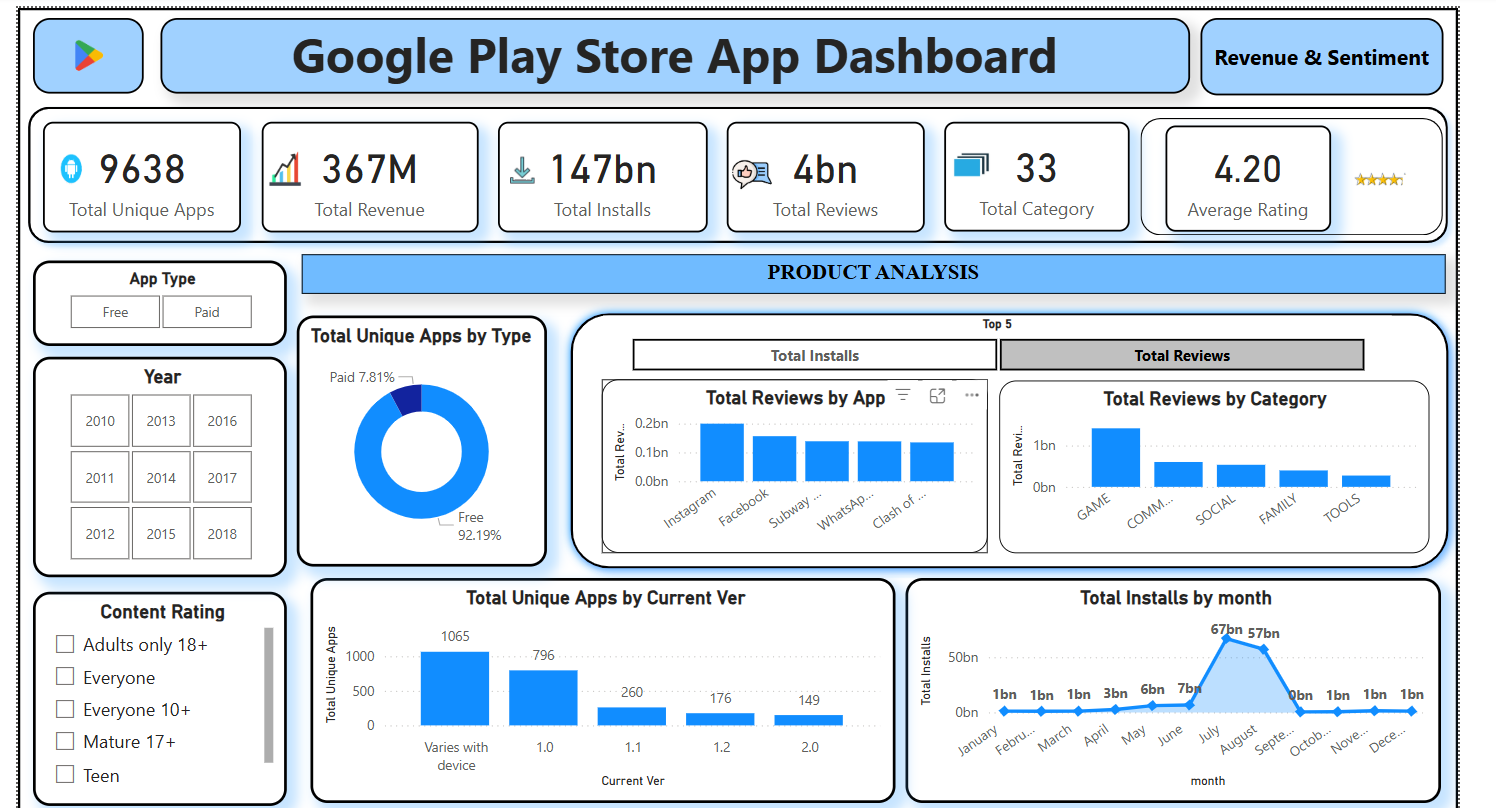

The page's visual inventory and layout, read from the dashboard file:
{"tool":"powerbi","page":{"name":"Summary","canvas":[1280,720],"ordinal":0},"visuals":[{"type":"shape","box":[0,0,1280,720],"z":0},{"type":"group","id":"g1","title":"Star Rating","box":[1182.3,120.5,60.7,60.8],"z":0,"group":"g2"},{"type":"image","title":"color_star","box":[1184.2,139.3,58.7,26.5],"z":0,"group":"g1"},{"type":"textbox","box":[126.3,9.4,914.9,67.2],"z":1000},{"type":"card","fields":{"Values":["All_Measures.Average Rating"]},"box":[1019.6,104.4,147.3,94.4],"z":1000,"group":"g2"},{"type":"image","title":"out_star","box":[1183.8,135,59.1,34.5],"z":1000,"group":"g1"},{"type":"image","box":[13.4,9.4,98.1,67.2],"z":2000},{"type":"shape","box":[997.6,98.2,268.7,104.3],"z":2000,"group":"g2"},{"type":"barChart","fields":{"Y":["All_Measures.Diff_Rating"]},"box":[1182.3,120.5,62.1,61.1],"z":2000,"group":"g1"},{"type":"slicer","title":"Content Rating","fields":{"Values":["Playstore_Cleaned.Content Rating"]},"box":[12.9,518.6,225.7,190],"z":3000},{"type":"slicer","title":"App Type","fields":{"Values":["Playstore_Cleaned.Type"]},"box":[12.9,224.3,225.7,75.7],"z":4000},{"type":"textbox","box":[251.7,218.3,1016.7,35],"z":5000},{"type":"shape","box":[0,79,1280,139],"z":6000},{"type":"card","fields":{"Values":["All_Measures.Total Unique Apps"]},"box":[22.5,100.6,176.2,98.8],"z":7000},{"type":"image","box":[23,110,48,66],"z":8000},{"type":"card","fields":{"Values":["All_Measures.Total Revenue"]},"box":[216.2,100.6,192.5,98.8],"z":9000},{"type":"image","box":[202.5,100,70,76.2],"z":10000},{"type":"card","fields":{"Values":["All_Measures.Total Installs"]},"box":[426.2,100.6,186.2,98.8],"z":11000},{"type":"image","box":[426.2,118.8,43.8,51.2],"z":12000},{"type":"card","fields":{"Values":["All_Measures.Total Reviews"]},"box":[630,100.6,176.2,98.8],"z":13000},{"type":"image","box":[630,123,45,50],"z":14000},{"type":"card","fields":{"Values":["All_Measures.Total Category"]},"box":[823.8,101.2,165,97.5],"z":15000},{"type":"image","box":[823.8,107.5,48.8,62.5],"z":16000},{"type":"slicer","title":"Year","fields":{"Values":["DimDate.Year"]},"box":[12.9,310,225.7,195.7],"z":17000},{"type":"group","id":"g2","title":"Ratings icon entire","box":[997.6,98.2,268.7,104.3],"z":18000},{"type":"shape","box":[481.7,261.7,798.3,245],"z":19000},{"type":"slicer","title":"Top 5","fields":{"Values":["category dynamic.category dynamic"]},"box":[520,273.3,701.1,56.7],"z":20000},{"type":"clusteredColumnChart","fields":{"Y":["All_Measures.Total Reviews"],"Category":["Playstore_Cleaned.App"]},"box":[518.9,330,343.3,154.4],"z":21000},{"type":"clusteredColumnChart","fields":{"Y":["All_Measures.Total Reviews"],"Category":["Playstore_Cleaned.Category"]},"box":[872.2,331.1,382.2,153.3],"z":22000},{"type":"lineChart","fields":{"Category":["DimDate.Year","DimDate.month"],"Y":["All_Measures.Total Installs"]},"box":[788.8,506.2,476.2,200],"z":23000},{"type":"actionButton","box":[1051.2,8.8,216.2,68.8],"z":24000},{"type":"clusteredColumnChart","fields":{"Y":["All_Measures.Total Unique Apps"],"Category":["Playstore_Cleaned.Current Ver"]},"box":[260,506.7,520,200],"z":25000},{"type":"donutChart","fields":{"Category":["Playstore_Cleaned.Type"],"Y":["All_Measures.Total Unique Apps"]},"box":[247.8,273.3,222.2,223.3],"z":26000}]}

Visuals, with their boxes in screenshot pixels (x1, y1, x2, y2):
shape: (27, 8, 1441, 803)
"Star Rating" group: (1333, 141, 1400, 208)
"color_star" image: (1335, 162, 1400, 191)
textbox: (167, 18, 1177, 92)
card - All_Measures.Average Rating: (1153, 123, 1316, 227)
"out_star" image: (1335, 157, 1400, 195)
image: (42, 18, 150, 92)
shape: (1129, 116, 1426, 231)
barChart - All_Measures.Diff_Rating: (1333, 141, 1402, 208)
"Content Rating" slicer: (42, 581, 291, 790)
"App Type" slicer: (42, 256, 291, 339)
textbox: (305, 249, 1428, 288)
shape: (27, 95, 1441, 249)
card - All_Measures.Total Unique Apps: (52, 119, 247, 228)
image: (53, 129, 106, 202)
card - All_Measures.Total Revenue: (266, 119, 479, 228)
image: (251, 118, 328, 202)
card - All_Measures.Total Installs: (498, 119, 704, 228)
image: (498, 139, 546, 196)
card - All_Measures.Total Reviews: (723, 119, 918, 228)
image: (723, 144, 773, 199)
card - All_Measures.Total Category: (937, 120, 1119, 227)
image: (937, 127, 991, 196)
"Year" slicer: (42, 350, 291, 566)
"Ratings icon entire" group: (1129, 116, 1426, 231)
shape: (559, 297, 1441, 567)
"Top 5" slicer: (602, 310, 1376, 372)
clusteredColumnChart - All_Measures.Total Reviews x Playstore_Cleaned.App: (600, 372, 980, 543)
clusteredColumnChart - All_Measures.Total Reviews x Playstore_Cleaned.Category: (991, 374, 1413, 543)
lineChart - DimDate.Year x DimDate.month: (899, 567, 1425, 788)
actionButton: (1188, 18, 1427, 94)
clusteredColumnChart - All_Measures.Total Unique Apps x Playstore_Cleaned.Current Ver: (314, 567, 889, 788)
donutChart - Playstore_Cleaned.Type x All_Measures.Total Unique Apps: (301, 310, 546, 556)
